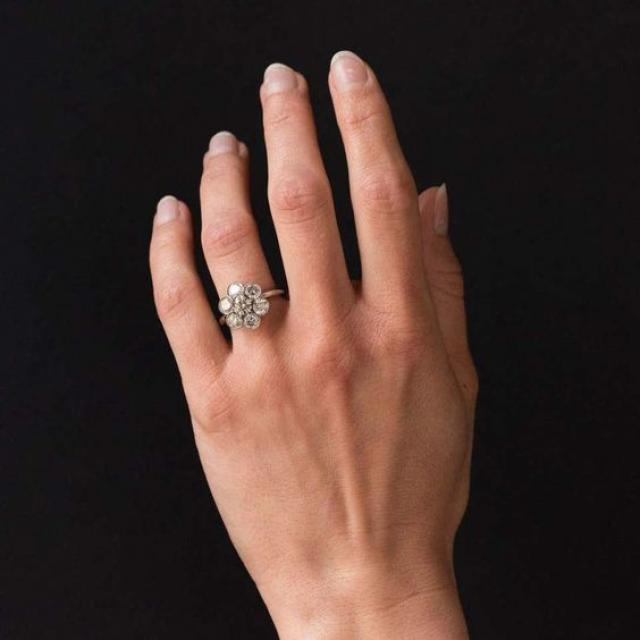Fingernail: (330, 51, 368, 92), (264, 63, 297, 93), (209, 131, 237, 158), (434, 185, 448, 237), (157, 196, 178, 225)
